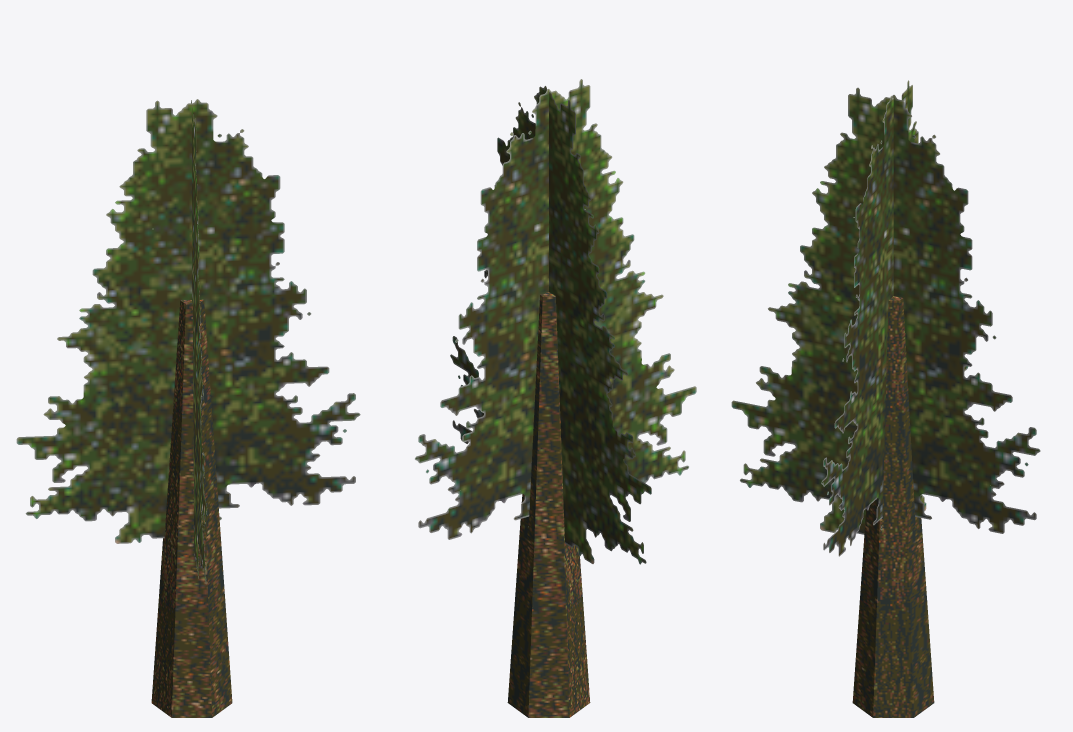
Rendered from tree.fbx.
3 renders of one model, left to right at view 1: azimuth 30°, elevation 25°; view 2: azimuth 150°, elevation 25°; view 3: azimuth 270°, elevation 25°, orthographic.
Visible parts, largest first — view 1: Cylinder.001, Cylinder, Cylinder.002; view 2: Cylinder.002, Cylinder.001, Cylinder; view 3: Cylinder.002, Cylinder, Cylinder.001.
Boxes of the visible parts, x1,y1,x2,y2 form: Cylinder.001: (16, 99, 360, 543); Cylinder: (151, 299, 232, 717); Cylinder.002: (191, 100, 207, 583); Cylinder.002: (415, 79, 696, 539); Cylinder.001: (450, 86, 651, 564); Cylinder: (507, 292, 590, 717); Cylinder.002: (731, 87, 1040, 534); Cylinder: (852, 296, 934, 717); Cylinder.001: (821, 80, 968, 556).
Bounding box in the file's own units: 800 × 1675 × 809.
